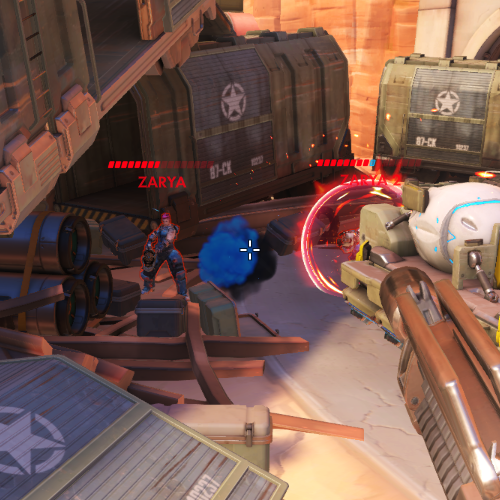hpbar: (107, 160, 215, 169), (316, 158, 423, 167)
